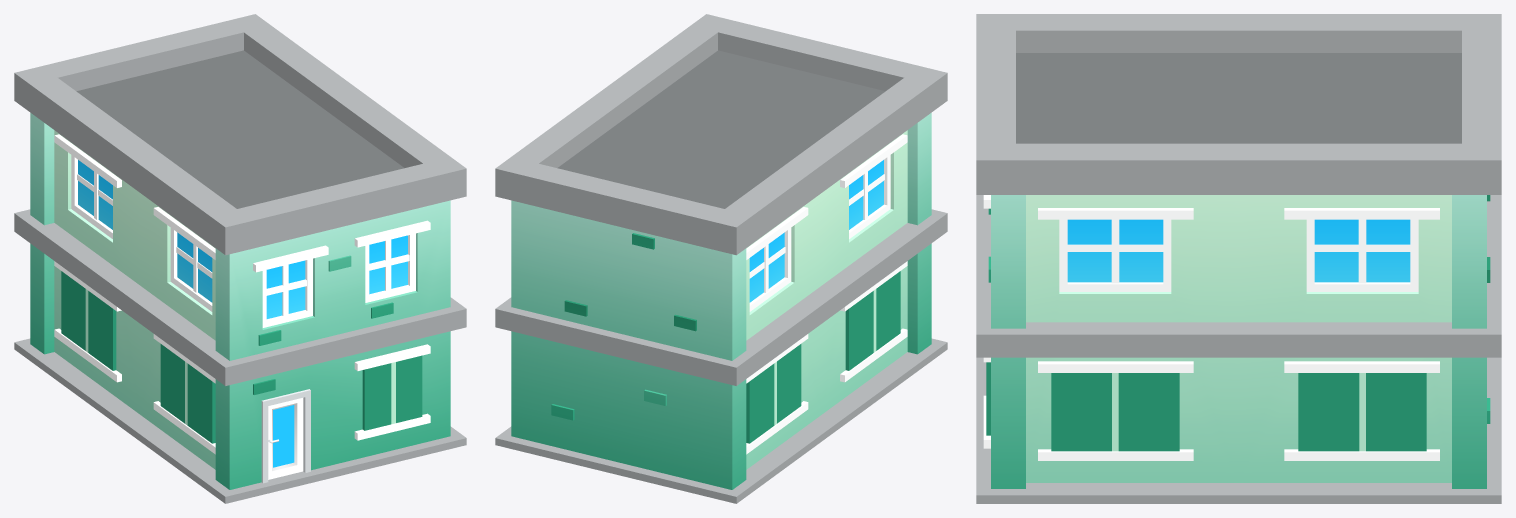
File: Building_Living_06.glb
3 renders of one model, left to right at view 1: azimuth 30°, elevation 25°; view 2: azimuth 150°, elevation 25°; view 3: azimuth 270°, elevation 25°, orthographic. The views are drawn at different scales.
Parts seen in each view (by area): view 1: Building_Living_06; view 2: Building_Living_06; view 3: Building_Living_06.
Boxes of the visible parts, <box> form: Building_Living_06: <box>14,14,466,503</box>; Building_Living_06: <box>495,14,947,503</box>; Building_Living_06: <box>976,14,1501,503</box>.
Size of the model in its own units: 7.15 by 7.83 by 10.84.
1 material, 1 textured.
